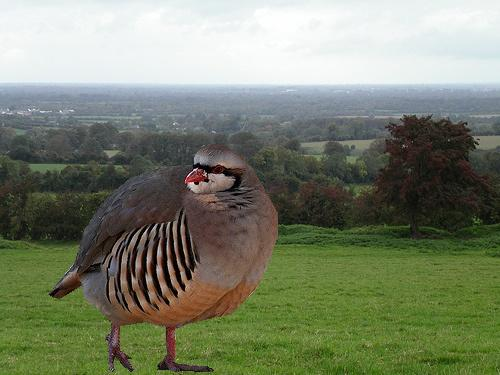tampered: (49, 145, 278, 372)
